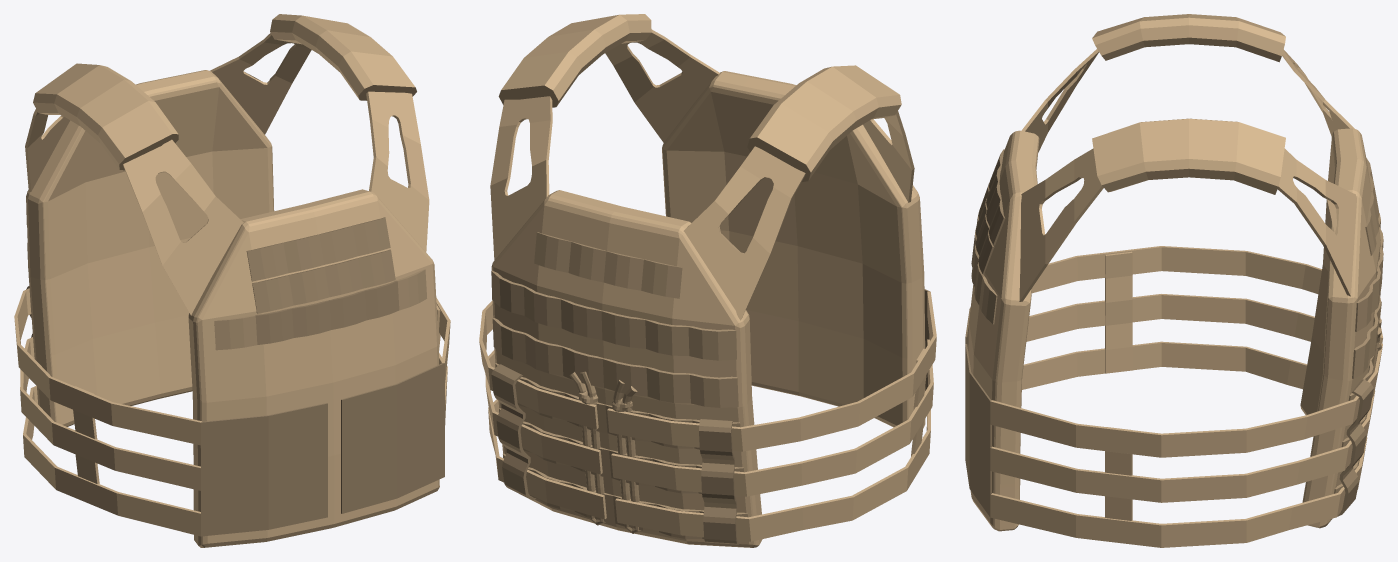
The model's file is JPC.fbx.
The picture shows the model from 3 angles, left to right: view 1: azimuth 30°, elevation 25°; view 2: azimuth 150°, elevation 25°; view 3: azimuth 270°, elevation 25°; orthographic projection. The views are drawn at different scales.
Parts seen in each view (by area): view 1: JPC; view 2: JPC; view 3: JPC.
Part boxes in pixels (box(x1,y1,x2,y2)): JPC: box(14, 14, 450, 547); JPC: box(479, 14, 936, 547); JPC: box(965, 14, 1383, 547).
Bounding box in the file's own units: 132 × 131 × 123.
